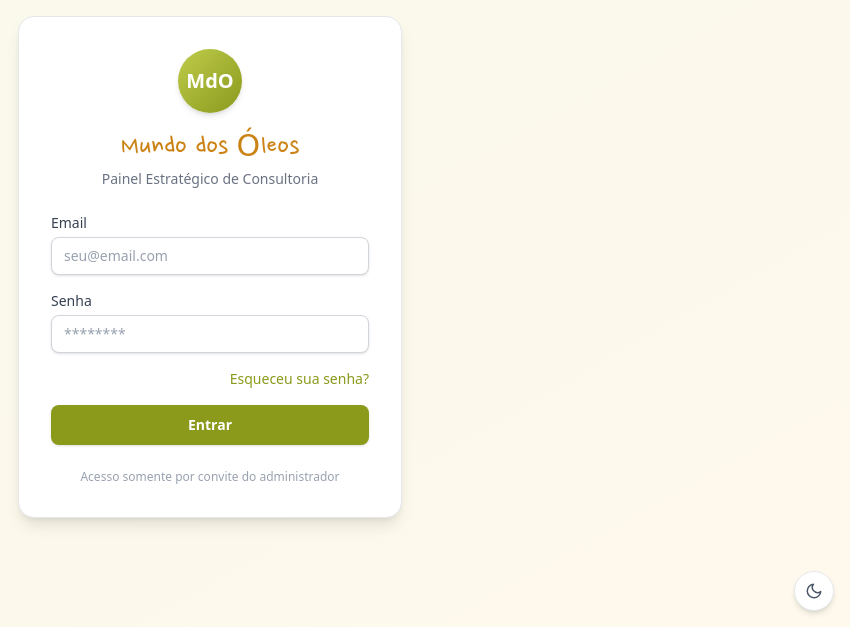
Test case: LoginPage › switches back to login from forgot password mode
This screenshot has width=850, height=627.
Click the button "Esqueceu sua senha?".
click(299, 379)  # box left=230, top=369, right=369, bottom=389
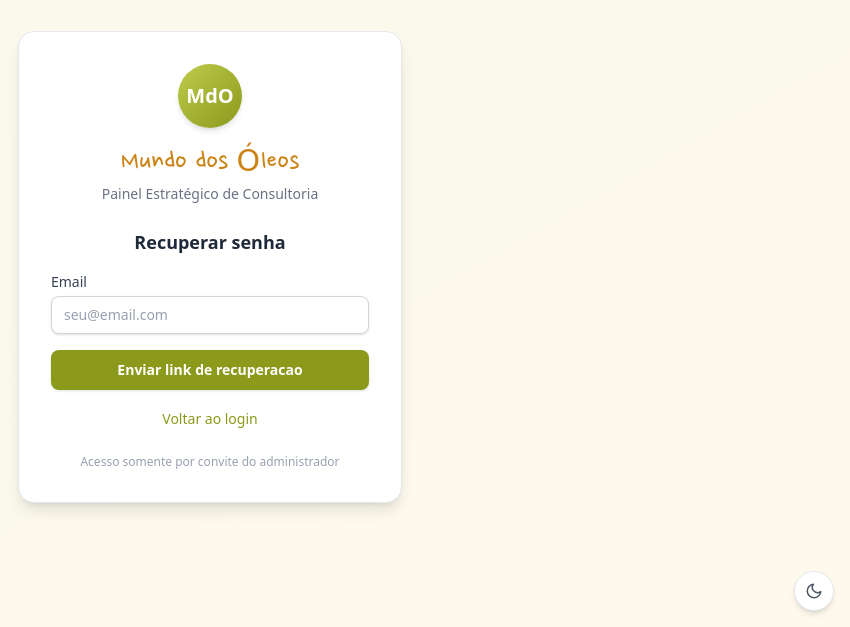
Result: the heading "Recuperar senha" is shown at left=134, top=230, right=286, bottom=254
Click the button "Voltar ao login".
click(210, 419)  # box left=162, top=409, right=258, bottom=429
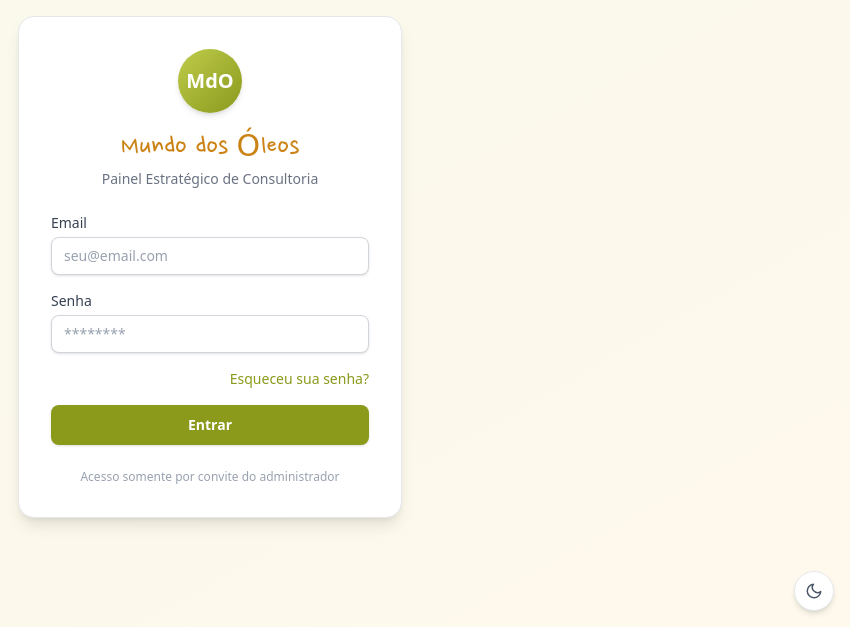
Result: the button "Entrar" is shown at left=51, top=405, right=369, bottom=445
